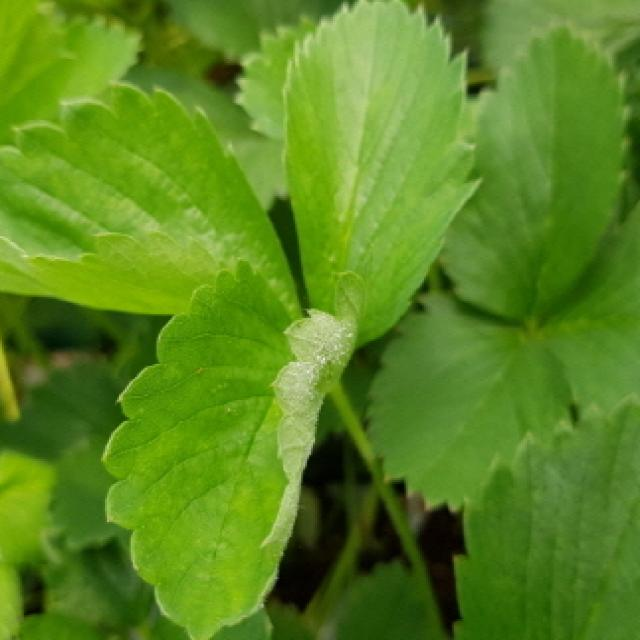Powdery Mildew Leaf: (97, 257, 363, 640)
